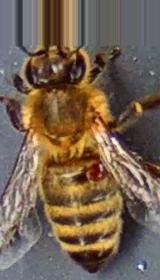varroa_mite: (72, 154, 125, 190)
